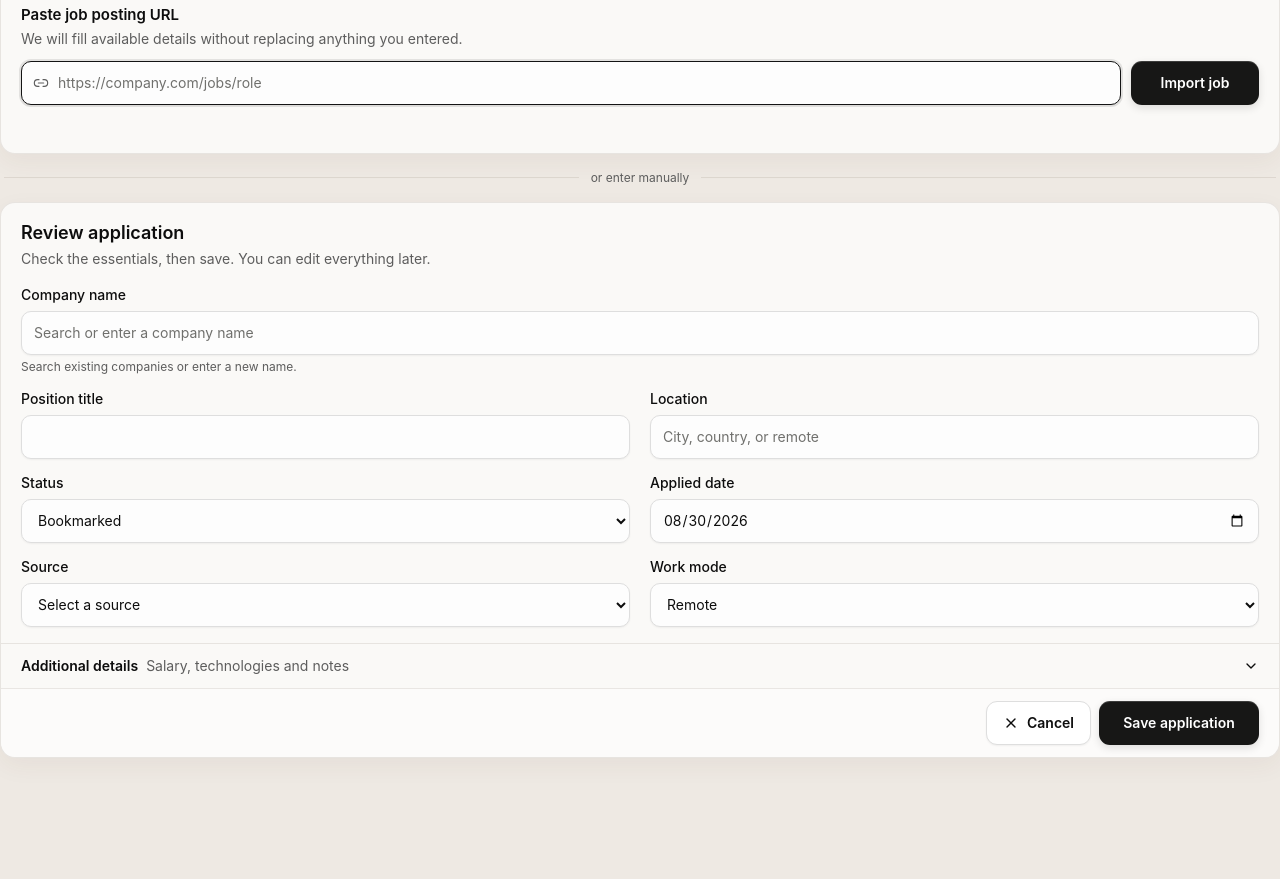
Test case: new application URL import › reopens additional details and surfaces its validation errors
Click the heading "Additional details Salary, technologies and notes" at (80, 665), box [21, 656, 1259, 674]
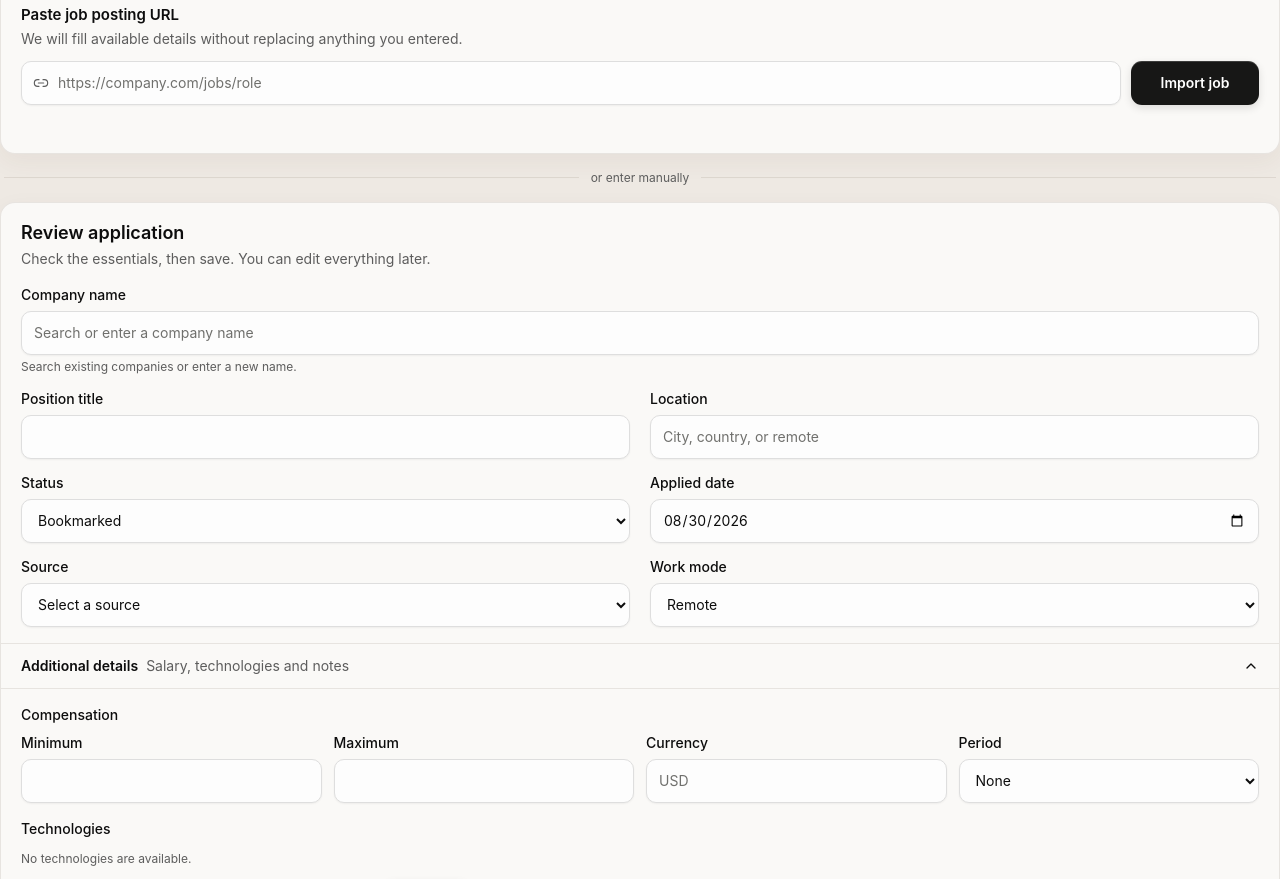
Type "100" into the field labelled "Minimum" at (171, 780), box [21, 758, 322, 802]
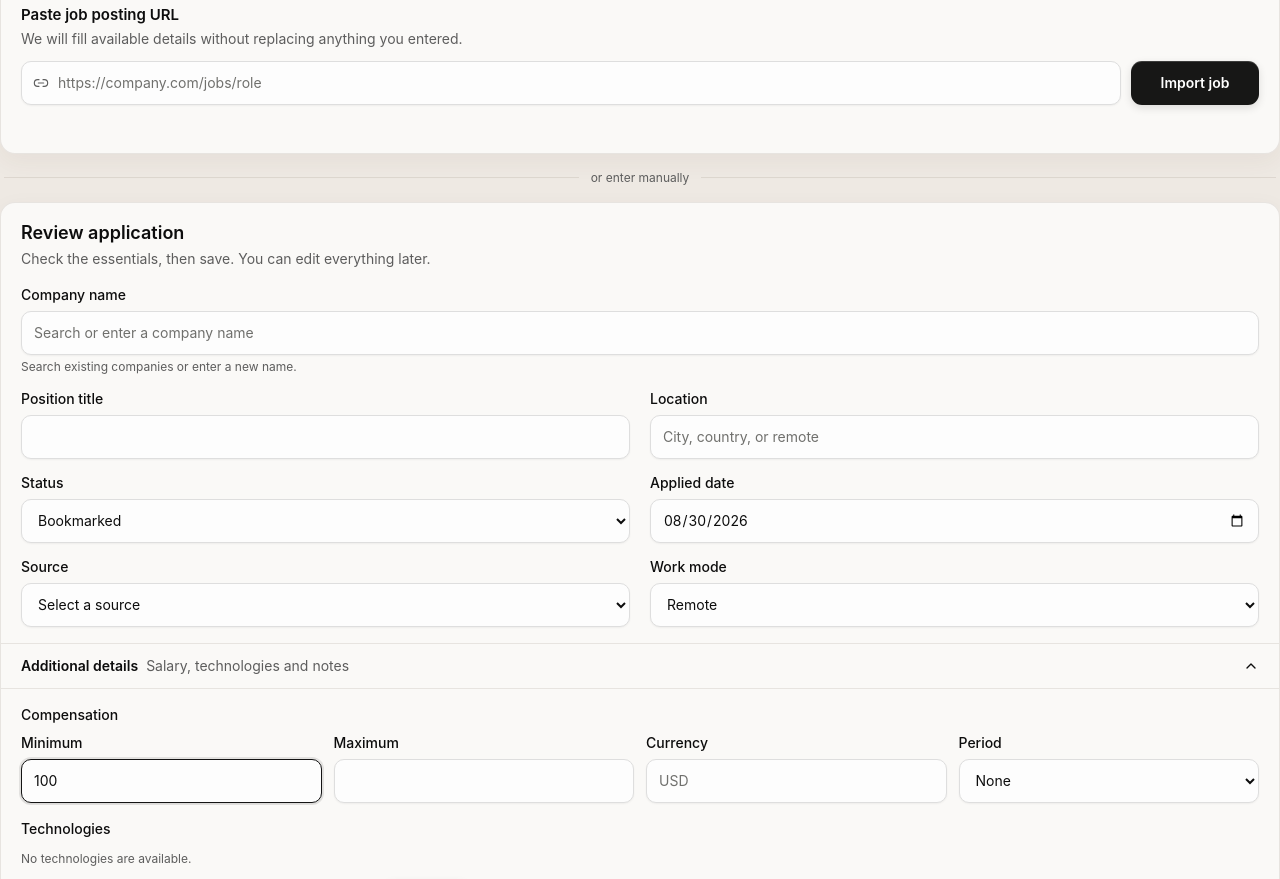
Click the heading "Additional details Salary, technologies and notes" at (80, 665), box [21, 656, 1259, 674]
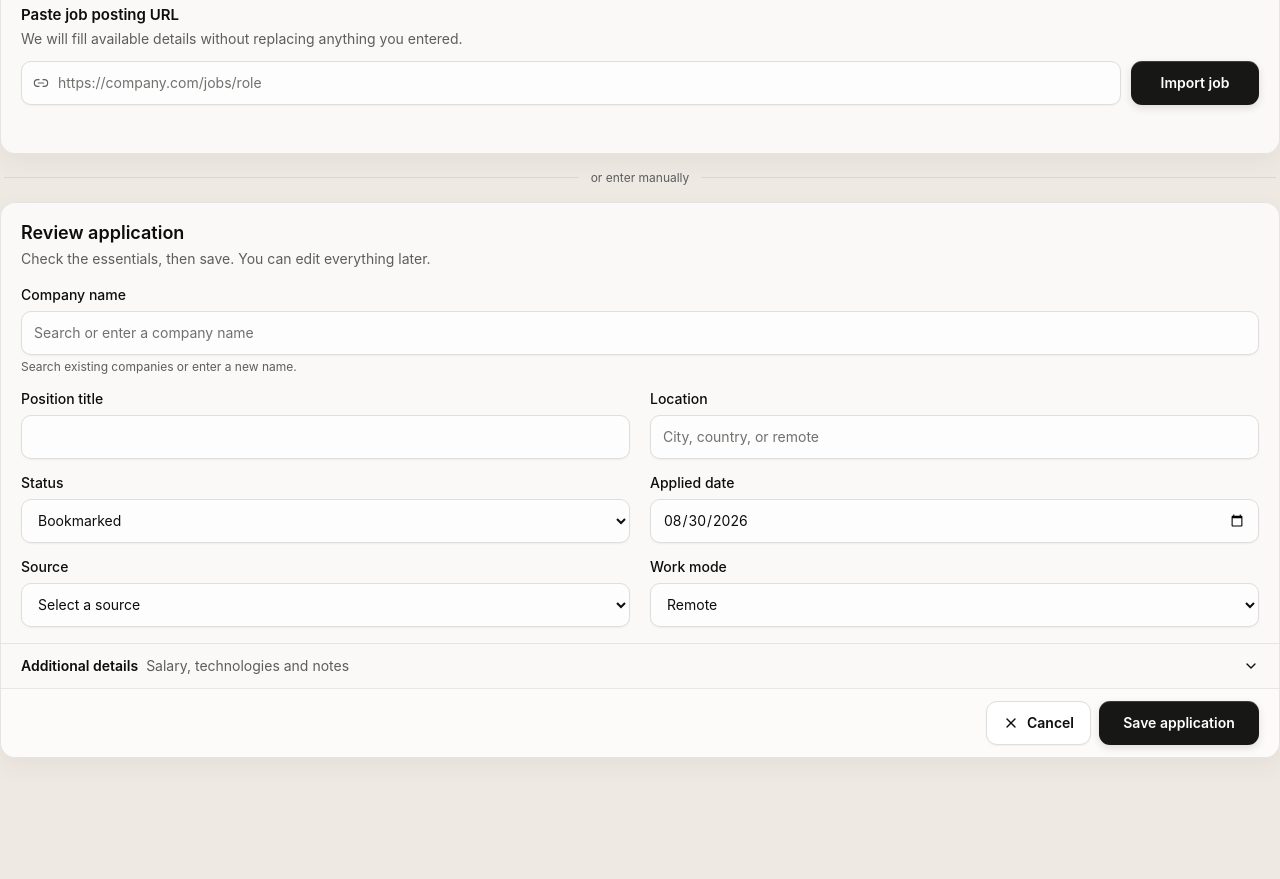
Click the button "Save application" at (1179, 722), box [1099, 700, 1259, 744]
(page scrolled)
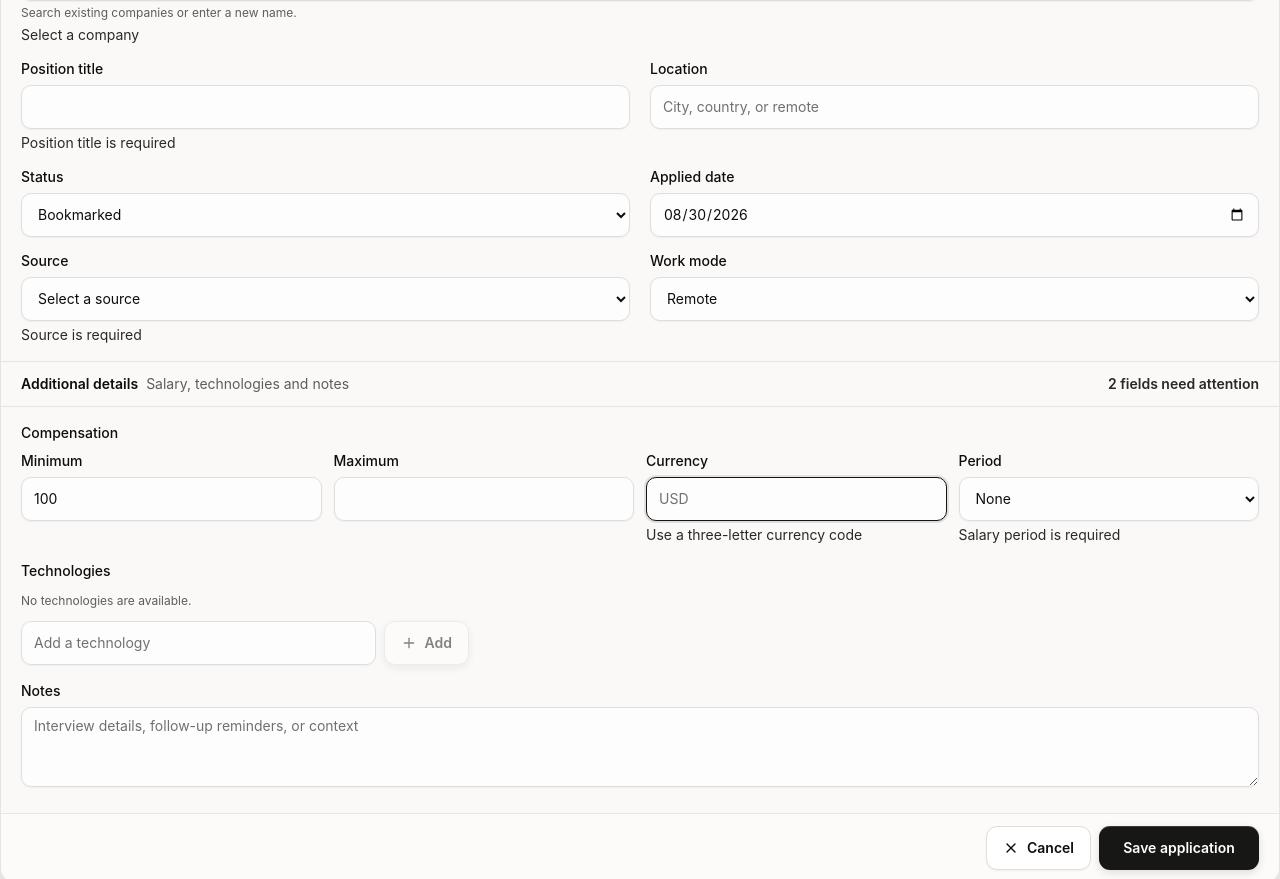
Result: the text "2 fields need attention" is shown at [1108, 374, 1259, 394]
